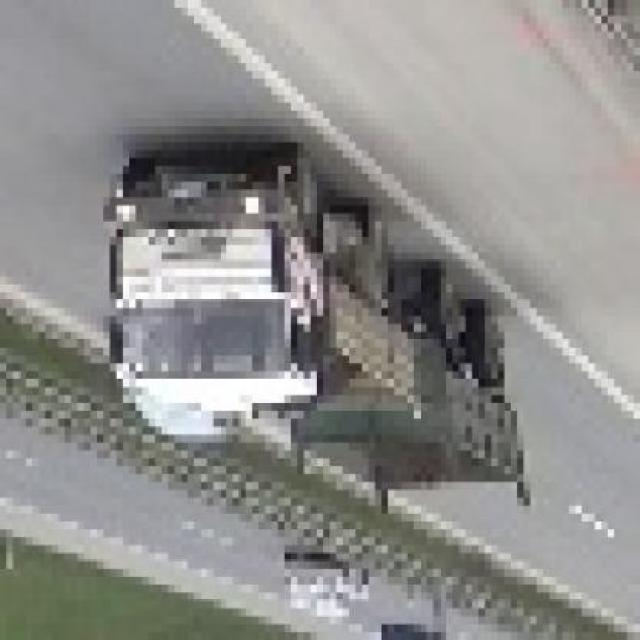truck: (97, 151, 525, 539)
